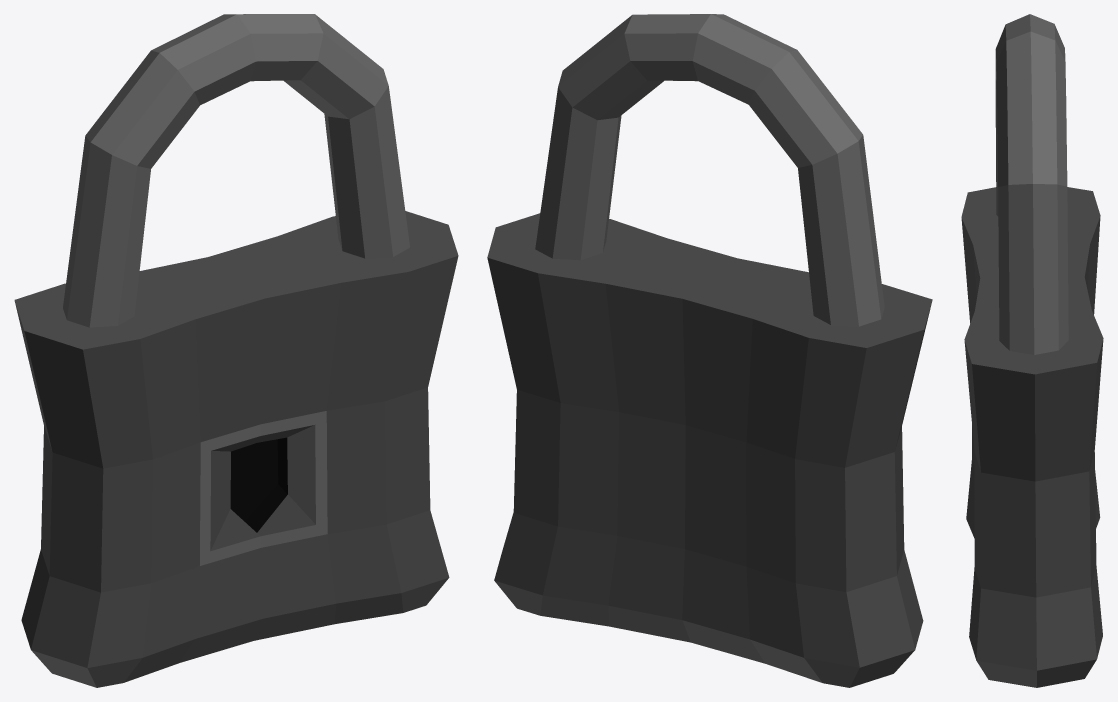
Rendered from ChestV1_Lock.fbx.
3 views of the same model, side by side, from view 1: azimuth 30°, elevation 25°; view 2: azimuth 150°, elevation 25°; view 3: azimuth 270°, elevation 25° (orthographic). The views are drawn at different scales.
Visible parts, largest first — view 1: ChestV1_Lock; view 2: ChestV1_Lock; view 3: ChestV1_Lock.
Part boxes in pixels (bbox=[...]): ChestV1_Lock: bbox=[14, 14, 458, 687]; ChestV1_Lock: bbox=[487, 14, 932, 687]; ChestV1_Lock: bbox=[961, 14, 1103, 687].
Bounding box in the file's own units: 11.27 × 15.53 × 3.49.
